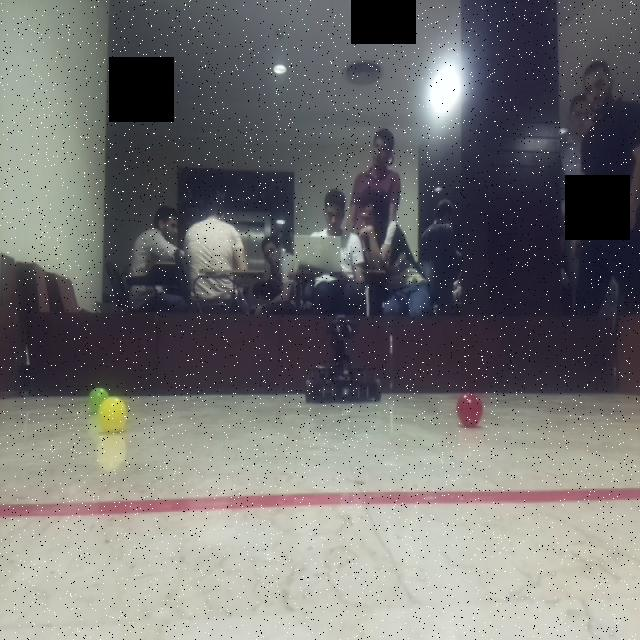ball: (98, 396, 130, 435), (456, 390, 485, 427), (88, 383, 109, 410)
